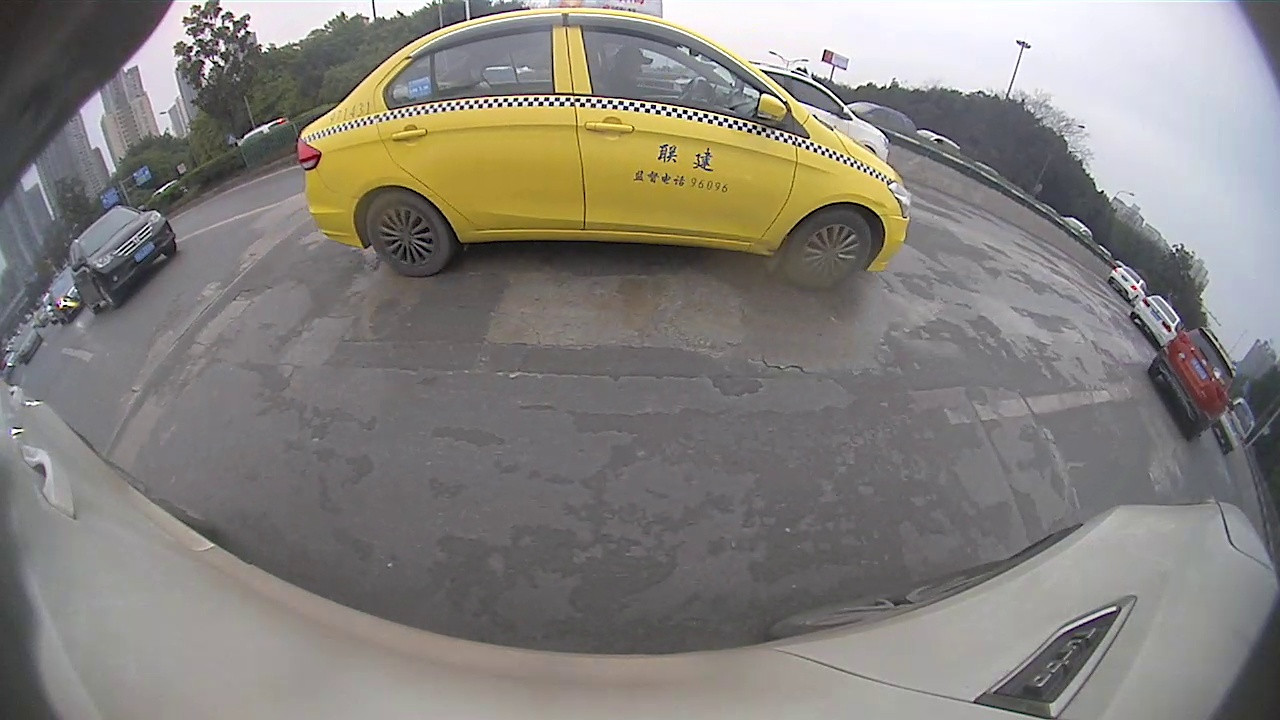car: (296, 2, 907, 289), (750, 63, 892, 162), (68, 204, 176, 315), (1147, 324, 1237, 437), (1132, 295, 1183, 350), (48, 268, 83, 321), (1107, 265, 1148, 303)
front: (780, 209, 871, 289), (94, 277, 119, 306)
rear: (366, 190, 454, 280)
